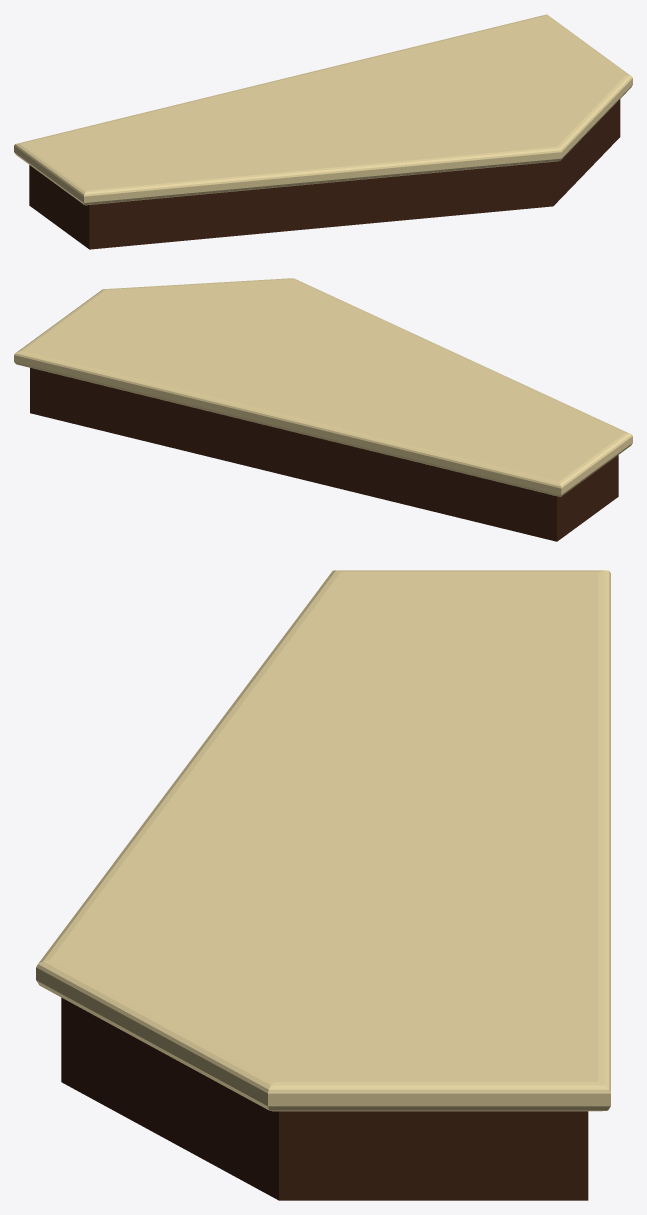
File: hunters_wimb_bartable.fbx
3 renders of one model, top to bottom at view 1: azimuth 30°, elevation 25°; view 2: azimuth 150°, elevation 25°; view 3: azimuth 270°, elevation 25°, orthographic. The views are drawn at different scales.
Visible parts, largest first — view 1: Cube.007; view 2: Cube.007; view 3: Cube.007.
Boxes of the visible parts, x1,y1,x2,y2 form: Cube.007: (14,14,632,249); Cube.007: (14,278,632,541); Cube.007: (36,570,610,1200).
Bounding box in the file's own units: 382 × 42.08 × 178.
